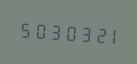five: (17, 16, 30, 41)
one: (101, 22, 114, 47)
three: (45, 18, 58, 43), (73, 20, 86, 45)
two: (87, 21, 100, 46)
zero: (31, 17, 44, 42), (59, 19, 72, 44)
